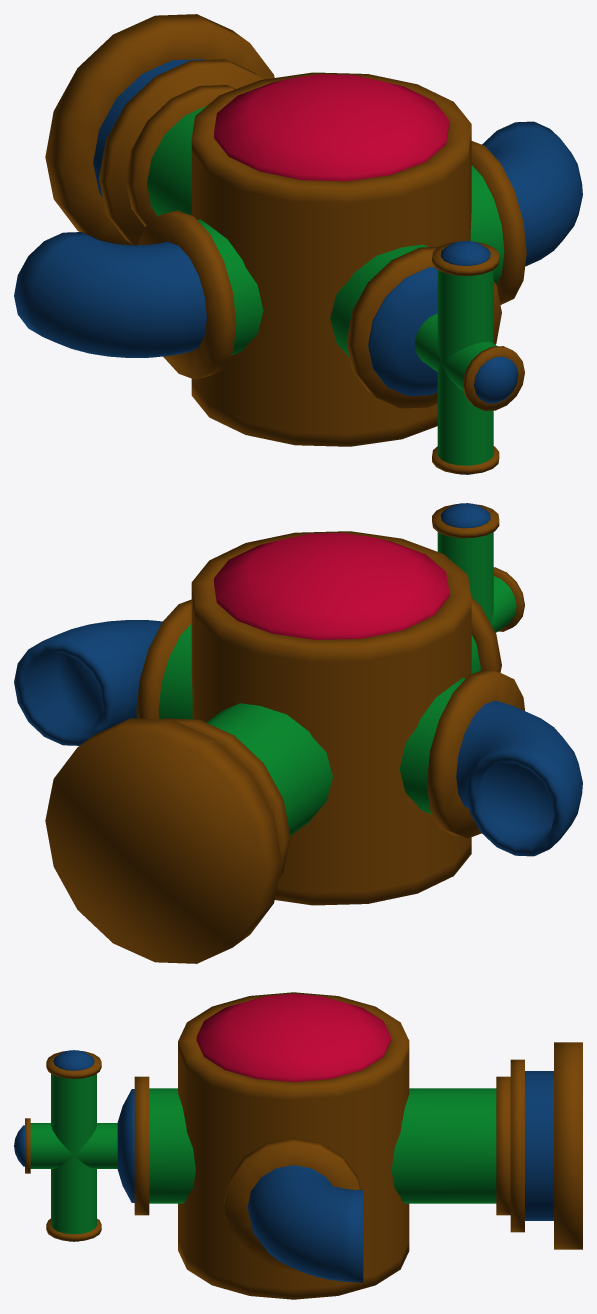
File: faucet.glb
The picture shows the model from 3 angles, top to bottom: view 1: azimuth 30°, elevation 25°; view 2: azimuth 150°, elevation 25°; view 3: azimuth 270°, elevation 25°; orthographic projection. The views are drawn at different scales.
Visible parts, largest first — view 1: levelMachine_faucet1_base, levelMachine_faucet1_1, levelMachine_faucet1_knob, levelMachine_faucet1_2; view 2: levelMachine_faucet1_base, levelMachine_faucet1_1, levelMachine_faucet1_2, levelMachine_faucet1_knob; view 3: levelMachine_faucet1_base, levelMachine_faucet1_2, levelMachine_faucet1_knob.
Part boxes in pixels (left/top/right/bottom): levelMachine_faucet1_base: left=45, top=14, right=501, bottom=446; levelMachine_faucet1_1: left=14, top=210, right=263, bottom=379; levelMachine_faucet1_knob: left=414, top=241, right=524, bottom=474; levelMachine_faucet1_2: left=470, top=121, right=582, bottom=304; levelMachine_faucet1_base: left=45, top=531, right=501, bottom=963; levelMachine_faucet1_1: left=399, top=669, right=582, bottom=856; levelMachine_faucet1_2: left=14, top=599, right=192, bottom=745; levelMachine_faucet1_knob: left=432, top=503, right=524, bottom=632; levelMachine_faucet1_base: left=117, top=992, right=582, bottom=1299; levelMachine_faucet1_2: left=224, top=1138, right=363, bottom=1282; levelMachine_faucet1_knob: left=14, top=1050, right=117, bottom=1241.
Size of the model in its own units: 1.8 by 1.04 by 1.97.
